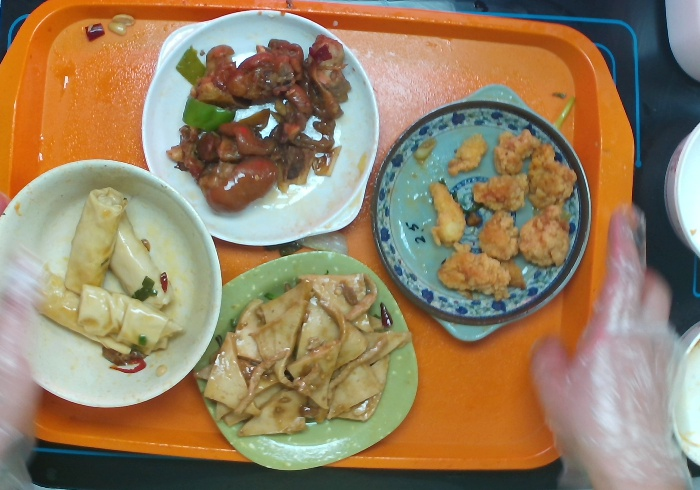NLDX-Bai_Se_Shuang_Er_Die: (137, 7, 383, 251)
NLDX-Bai_Se_Yuan_Wan: (1, 155, 228, 411)
NLDX-Lv_Hua_Fang_Die: (193, 247, 424, 473)
NLDX-Qing_Hua_Shuang_Er_Die: (368, 80, 594, 347)
